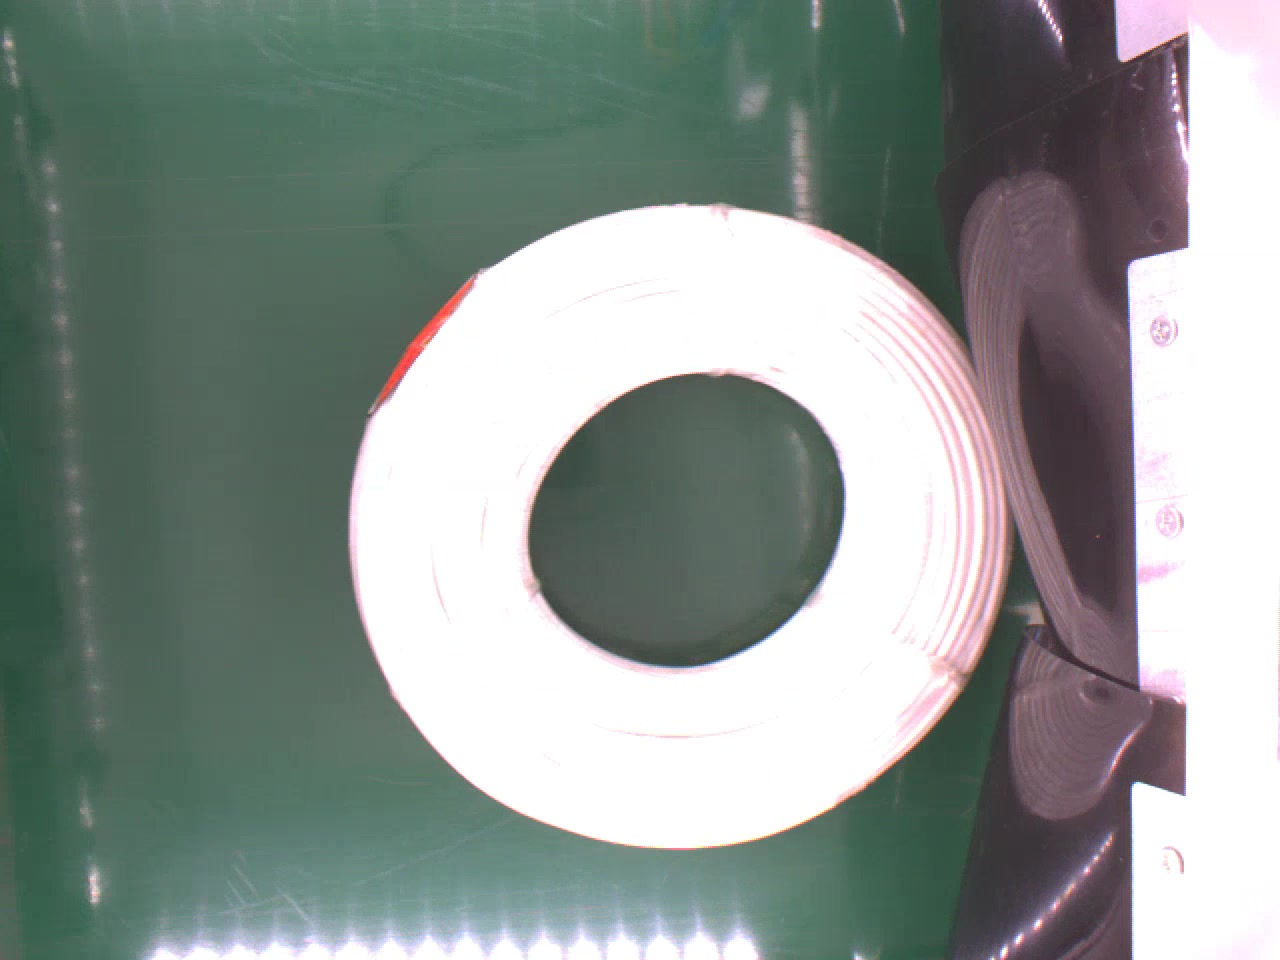white: (342, 198, 1013, 858)
